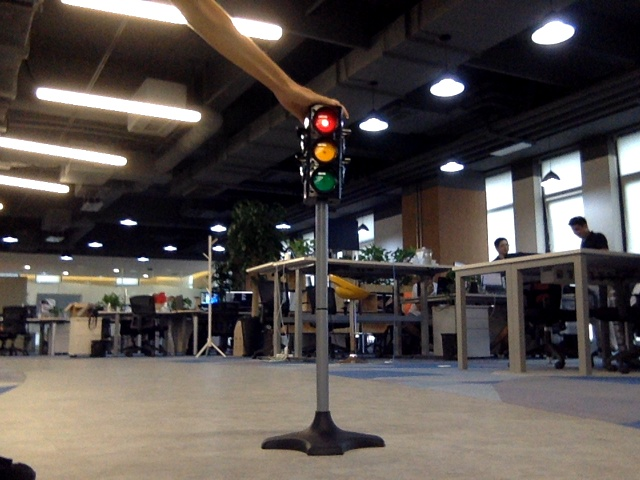red: (312, 110, 339, 195)
